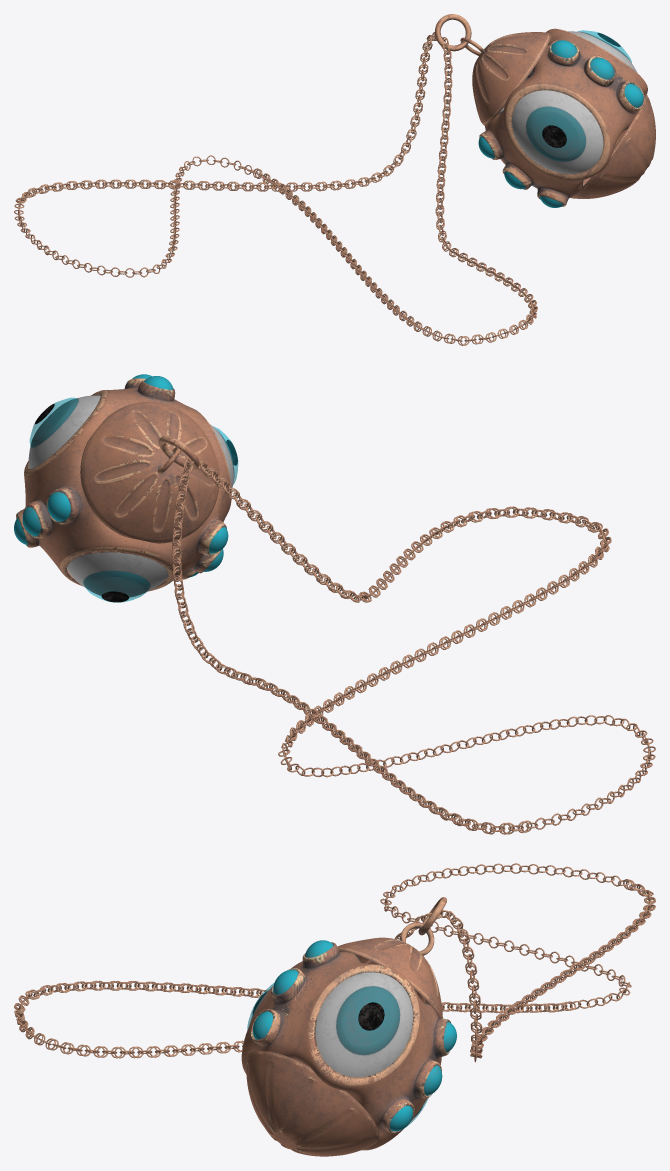
Rendered from Evil_eye.glb.
The picture shows the model from 3 angles, top to bottom: view 1: azimuth 30°, elevation 25°; view 2: azimuth 150°, elevation 25°; view 3: azimuth 270°, elevation 25°; orthographic projection. The views are drawn at different scales.
Visible parts, largest first — view 1: Outer_shell, Chain, Eye03, Outer_shell.001, Eye02; view 2: Outer_shell, Chain, Eye01, Eye02, Outer_shell.001; view 3: Outer_shell, Chain, Eye02, Outer_shell.001.
Boxes of the visible parts, bbox=[...] form: Outer_shell: bbox=[435, 14, 655, 206]; Chain: bbox=[14, 32, 537, 345]; Eye03: bbox=[512, 90, 603, 173]; Outer_shell.001: bbox=[478, 40, 643, 207]; Eye02: bbox=[568, 30, 637, 73]; Outer_shell: bbox=[16, 378, 231, 591]; Chain: bbox=[172, 458, 655, 834]; Eye01: bbox=[67, 552, 168, 602]; Eye02: bbox=[28, 395, 100, 468]; Outer_shell.001: bbox=[14, 374, 228, 577]; Outer_shell: bbox=[241, 897, 450, 1156]; Chain: bbox=[14, 863, 655, 1062]; Eye02: bbox=[315, 972, 413, 1077]; Outer_shell.001: bbox=[253, 940, 456, 1131].
Size of the model in its own units: 0.2629 by 0.0783 by 0.2283.
Materials: 2 (2 with a texture image).
